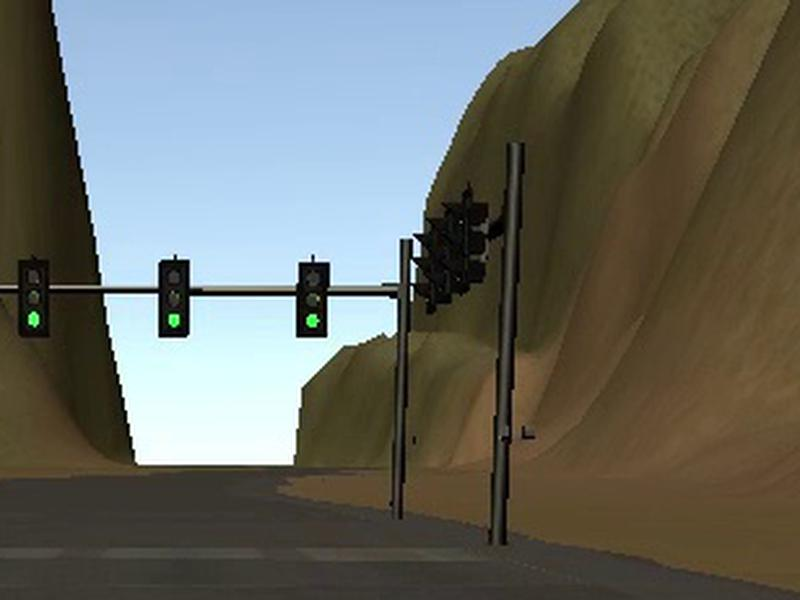Green: (17, 259, 51, 338), (157, 258, 190, 338), (295, 260, 327, 337)
